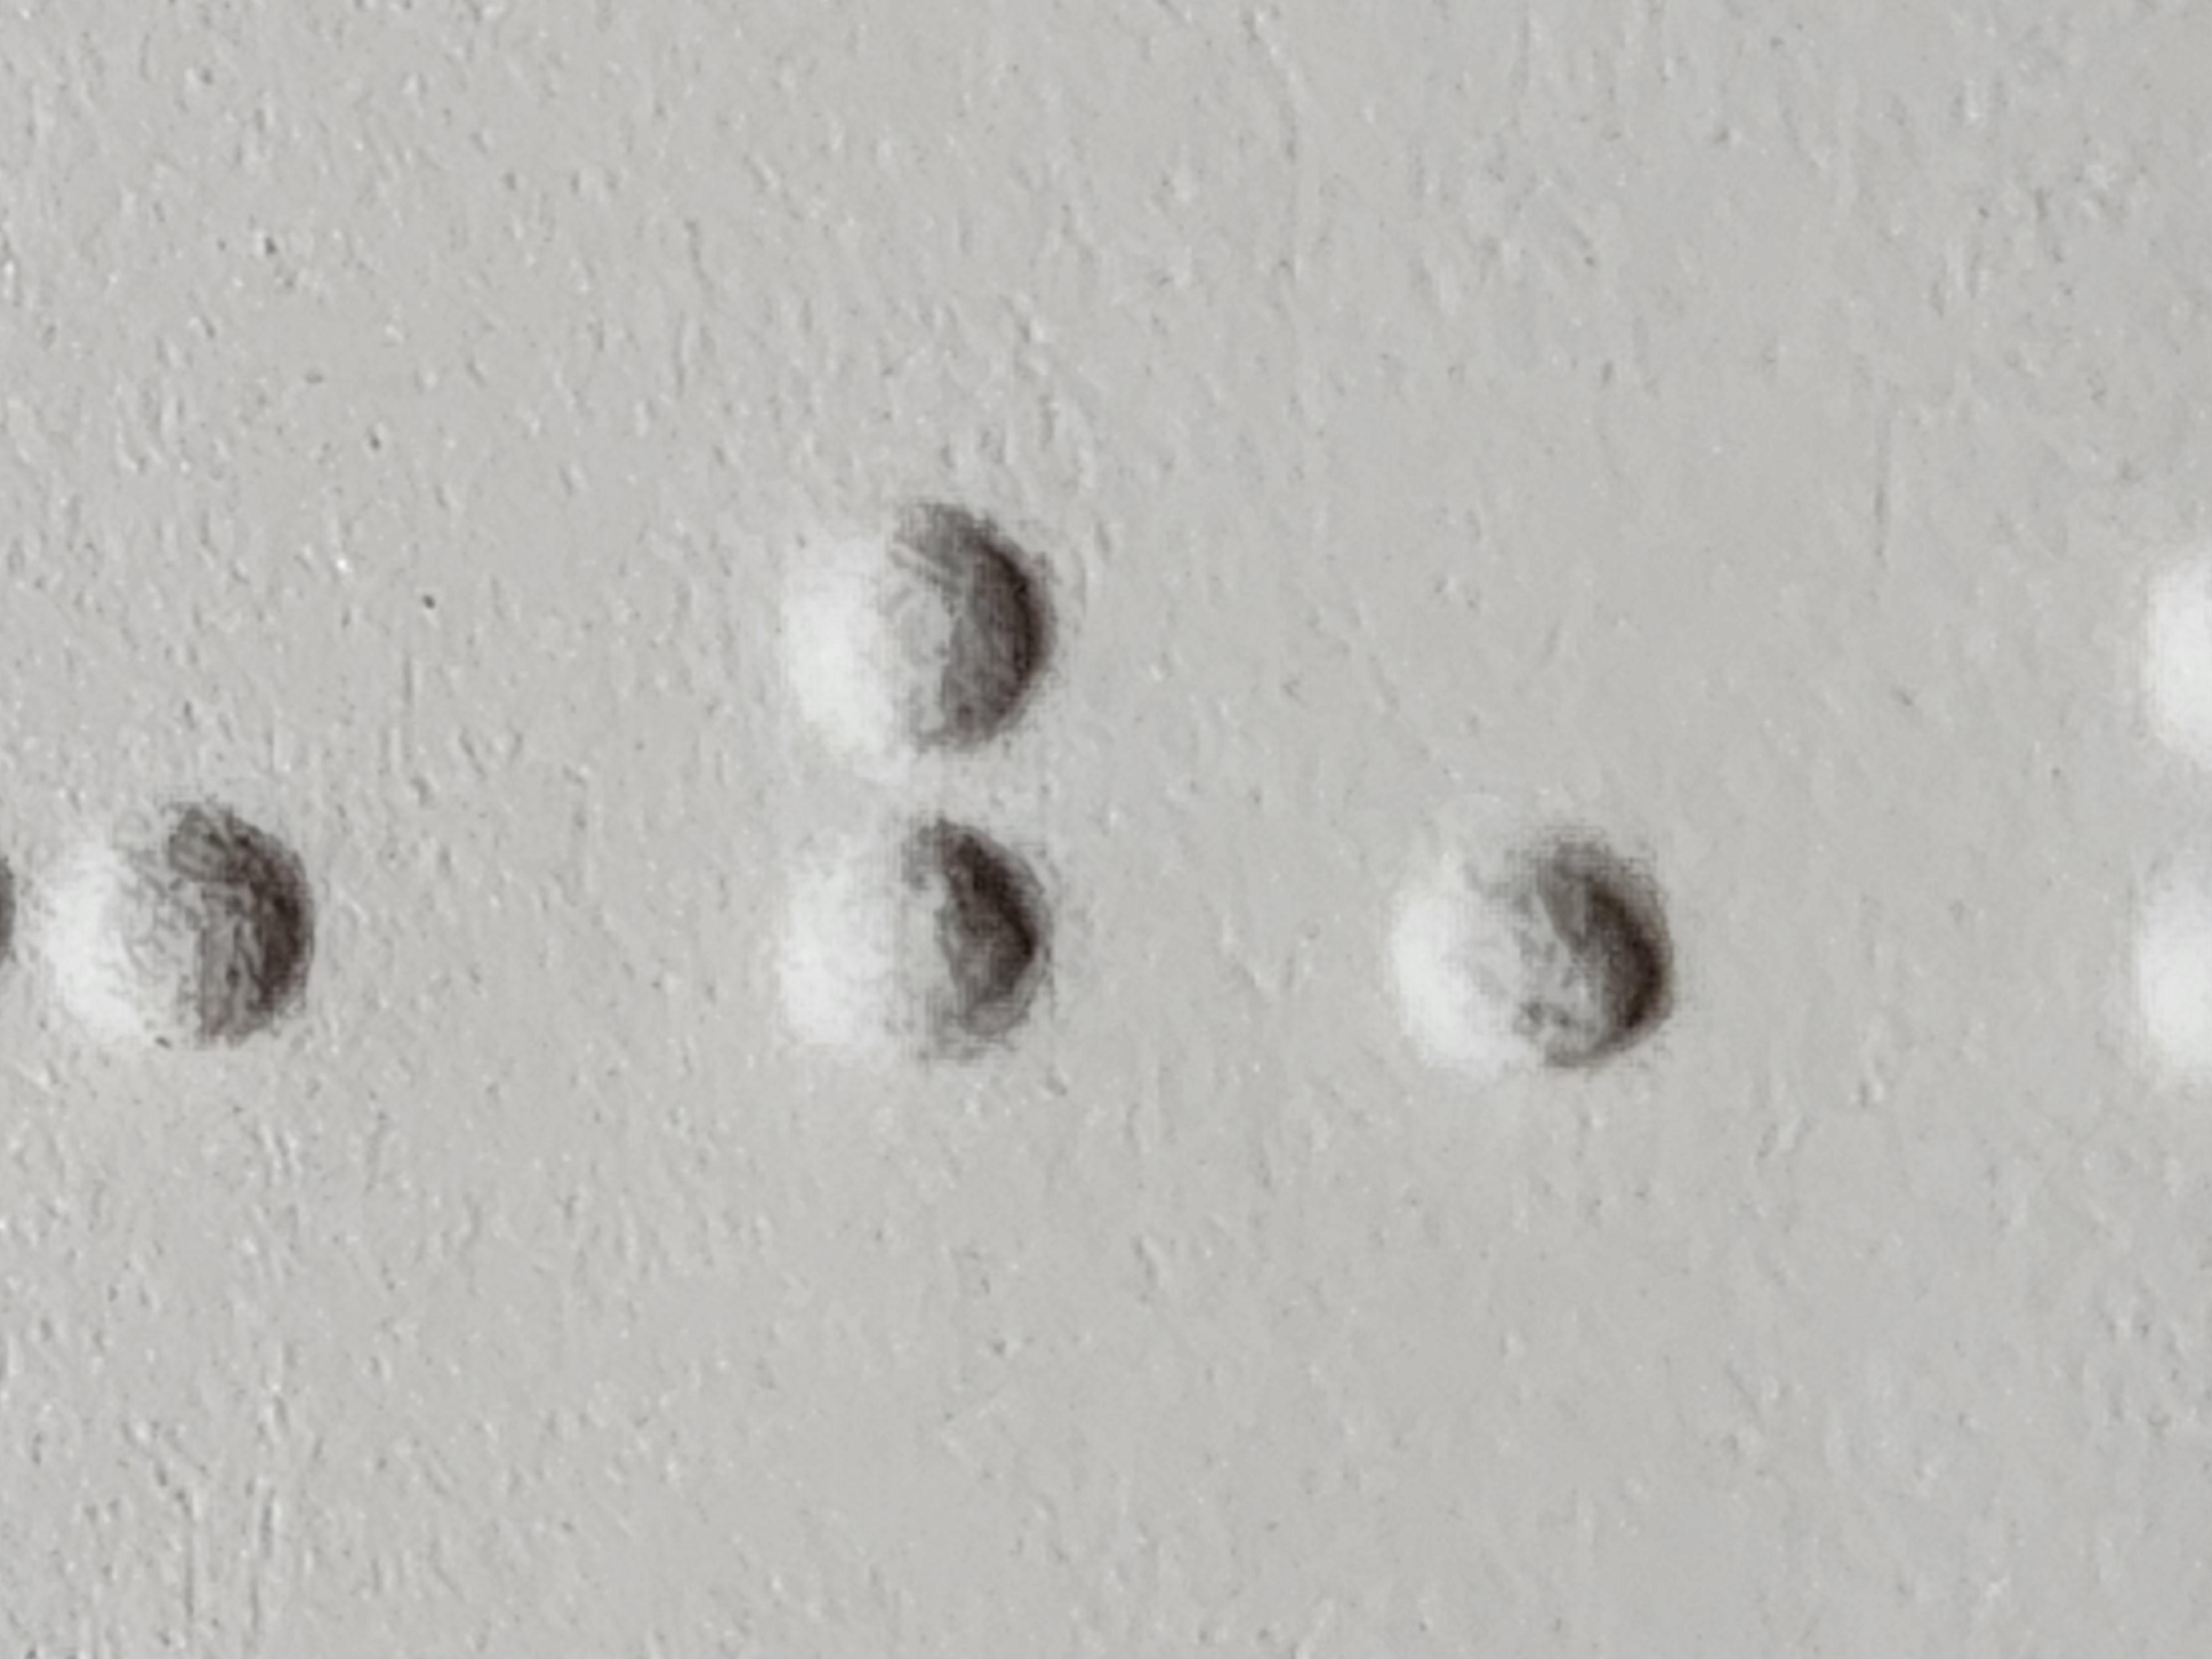one_cell_alphabet_mga: (775, 577, 1534, 1263)
